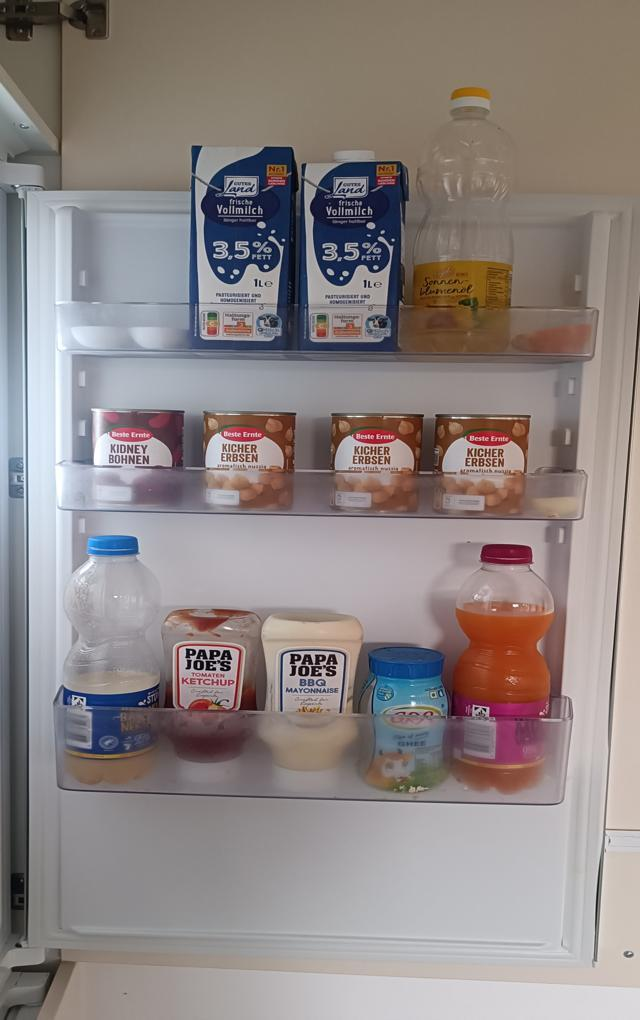bananajuice: (63, 532, 163, 790)
chickpeas: (433, 408, 530, 523), (202, 405, 297, 519), (330, 408, 425, 517)
ghee: (359, 642, 448, 800)
kidneybeans: (90, 405, 186, 515)
mayoniasie: (262, 609, 361, 794)
milk: (188, 142, 300, 354), (302, 146, 411, 355)
oil: (416, 87, 517, 360)
orangejuice: (451, 540, 555, 796)
tomatoketchup: (166, 603, 261, 786)
